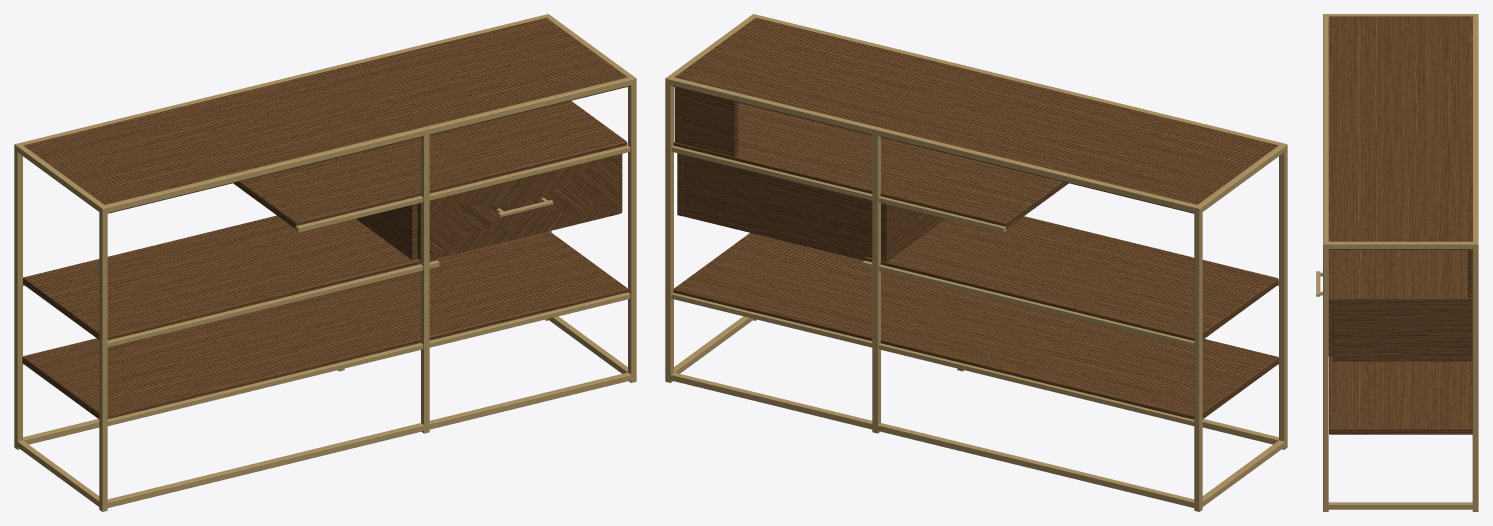
3 renders of one model, left to right at view 1: azimuth 30°, elevation 25°; view 2: azimuth 150°, elevation 25°; view 3: azimuth 270°, elevation 25°, orthographic. The views are drawn at different scales.
Visible parts, largest first — view 1: SIENNA LV463-L21 | LV463-L21-01 optimized, Console offset drawer sliding pivot optimized; view 2: SIENNA LV463-L21 | LV463-L21-01 optimized; view 3: SIENNA LV463-L21 | LV463-L21-01 optimized, Console offset drawer sliding pivot optimized.
Boxes of the visible parts, bbox=[...] form: SIENNA LV463-L21 | LV463-L21-01 optimized: bbox=[14, 14, 636, 511]; Console offset drawer sliding pivot optimized: bbox=[417, 154, 619, 261]; SIENNA LV463-L21 | LV463-L21-01 optimized: bbox=[665, 14, 1287, 511]; SIENNA LV463-L21 | LV463-L21-01 optimized: bbox=[1323, 14, 1478, 511]; Console offset drawer sliding pivot optimized: bbox=[1316, 250, 1332, 356].
Size of the model in its own units: 1.4 by 0.76 by 0.417.
Materials: 4 (2 with a texture image).
